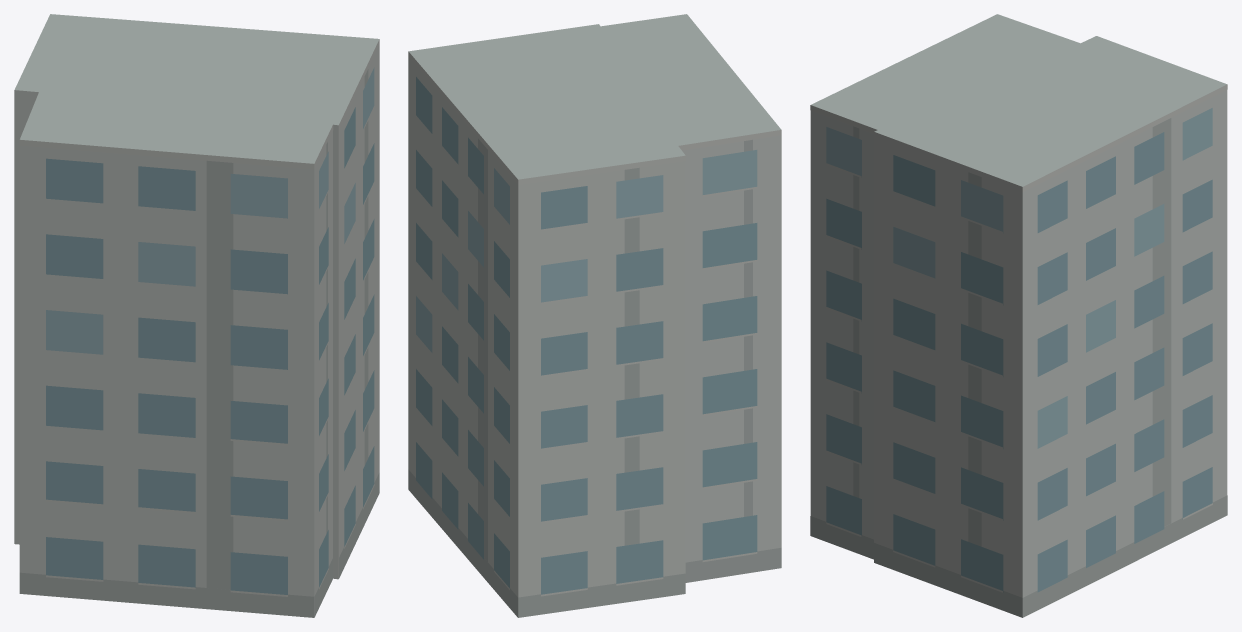
File: survey-upis-32952555.glb
3 views of the same model, side by side, from view 1: azimuth 30°, elevation 25°; view 2: azimuth 150°, elevation 25°; view 3: azimuth 270°, elevation 25° (orthographic). The views are drawn at different scales.
Parts seen in each view (by area): view 1: survey-upis-32952555.tmp; view 2: survey-upis-32952555.tmp; view 3: survey-upis-32952555.tmp.
Boxes of the visible parts, <box> form: survey-upis-32952555.tmp: <box>14,14,379,617</box>; survey-upis-32952555.tmp: <box>408,14,781,617</box>; survey-upis-32952555.tmp: <box>810,14,1227,617</box>.
Bounding box in the file's own units: 16.7 × 19.4 × 17.01.
